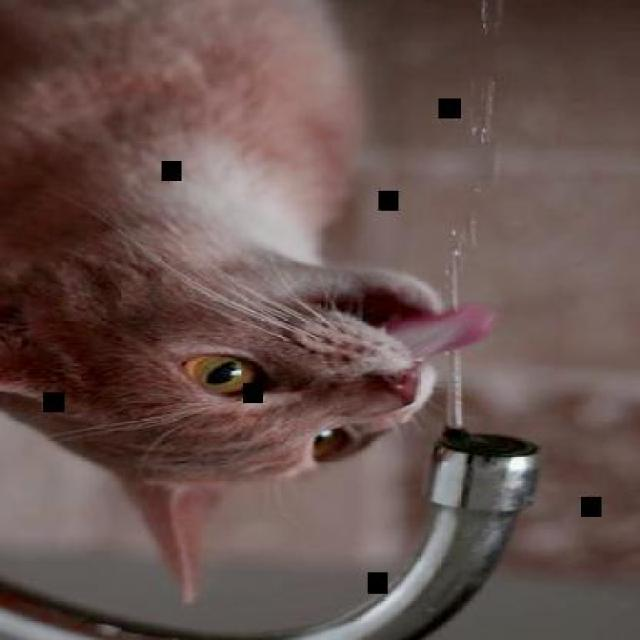cat: (0, 0, 502, 606)
